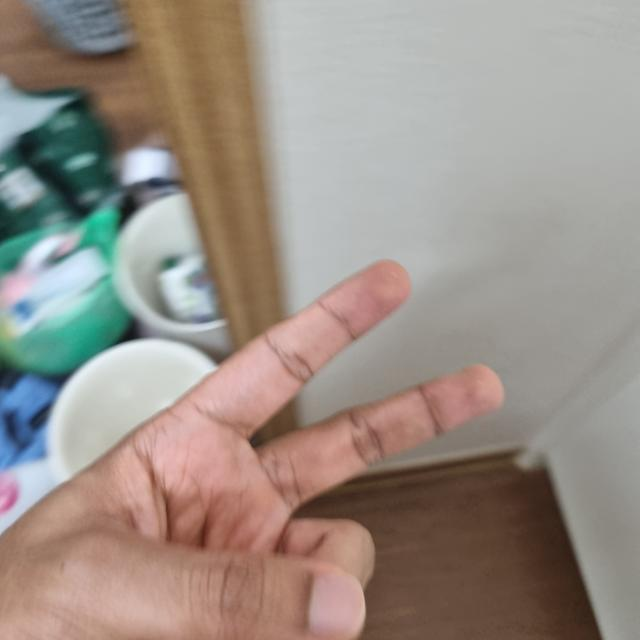Scissors: (2, 262, 634, 638)
